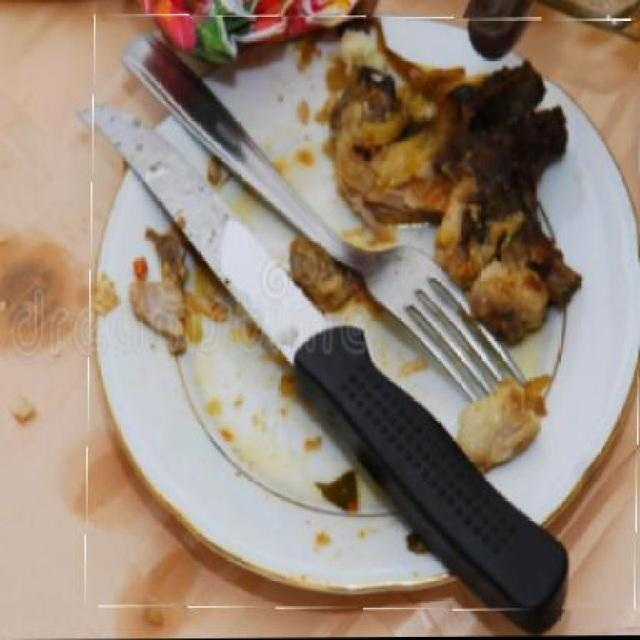Plate: (86, 14, 639, 614)
